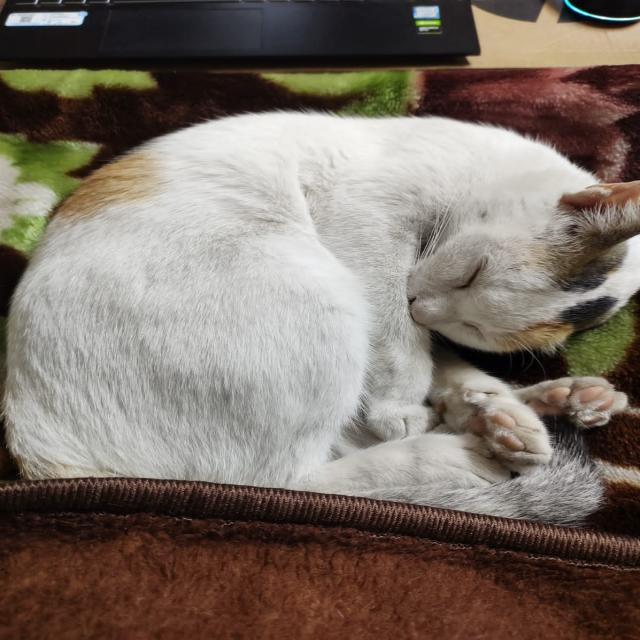Animals: (4, 111, 640, 529)
